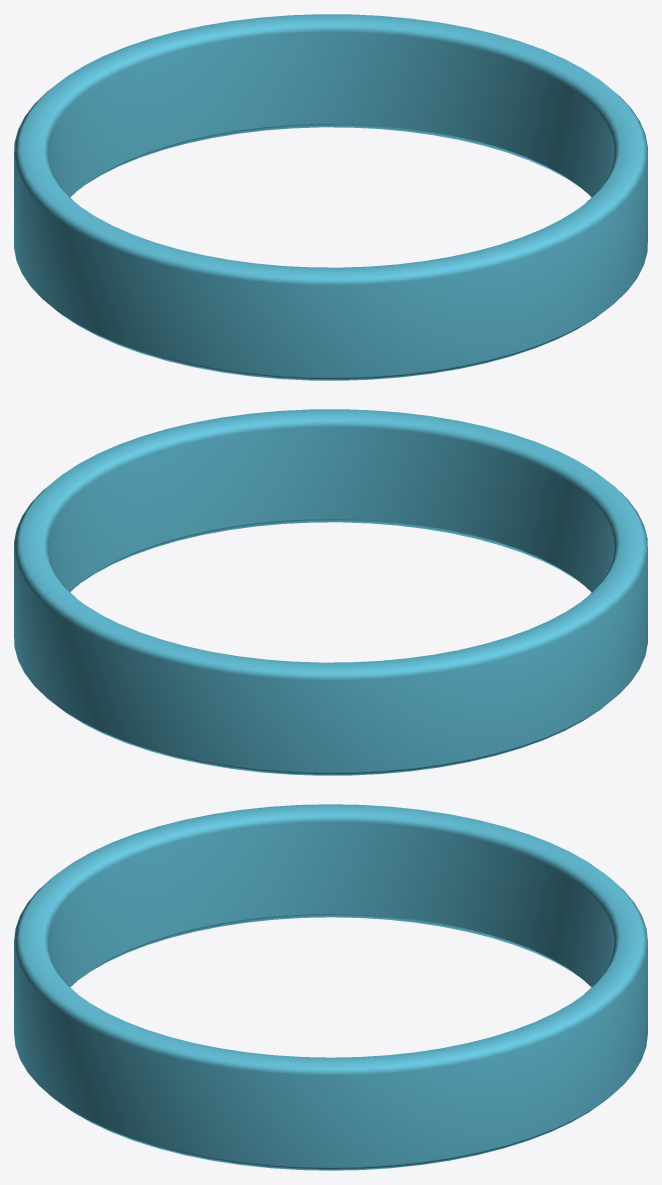
The picture shows the model from 3 angles, top to bottom: view 1: azimuth 30°, elevation 25°; view 2: azimuth 150°, elevation 25°; view 3: azimuth 270°, elevation 25°; orthographic projection.
Parts seen in each view (by area): view 1: seal_body; view 2: seal_body; view 3: seal_body.
Part boxes in pixels (x1,y1,x2,y2): seal_body: (14,14,647,380); seal_body: (14,409,647,775); seal_body: (14,804,647,1170).
Size of the model in its own units: 0.0875 by 0.0159 by 0.0875.
